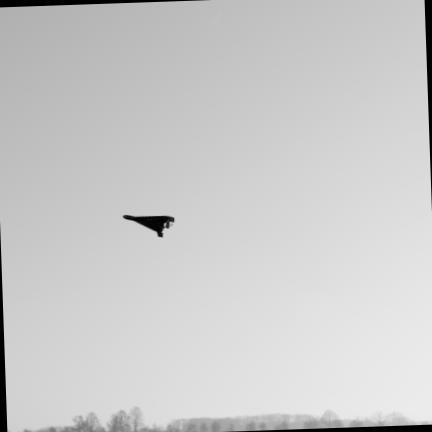Shahed: (123, 217, 174, 237)
